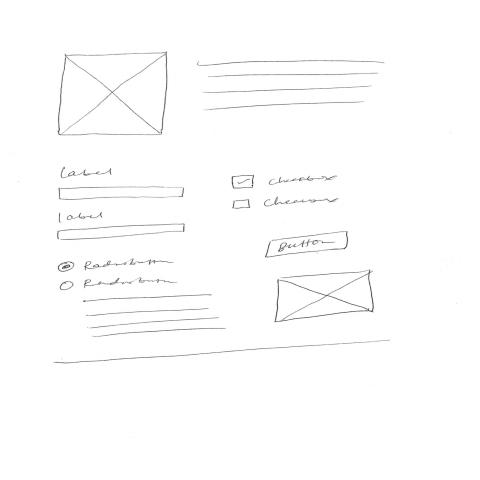Button: (264, 230, 348, 258)
Check Box: (230, 173, 336, 189), (230, 195, 340, 210)
Image: (56, 50, 169, 137), (272, 268, 375, 323)
Label: (60, 166, 113, 178), (57, 211, 103, 221)
Paragraph: (194, 60, 386, 112), (82, 292, 221, 338)
Radio Button: (57, 275, 181, 291), (57, 256, 174, 272)
Textbox: (54, 223, 185, 241), (56, 186, 186, 200)
